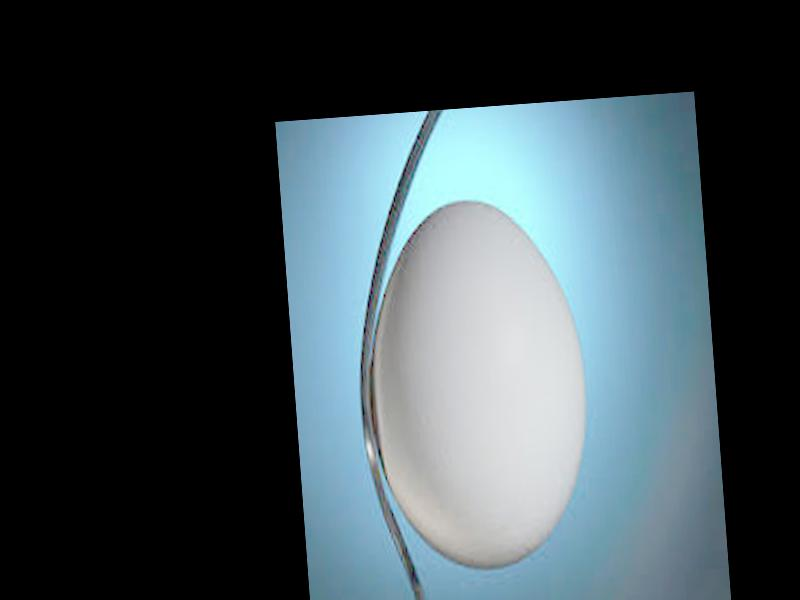Eggs: (359, 193, 595, 575)
